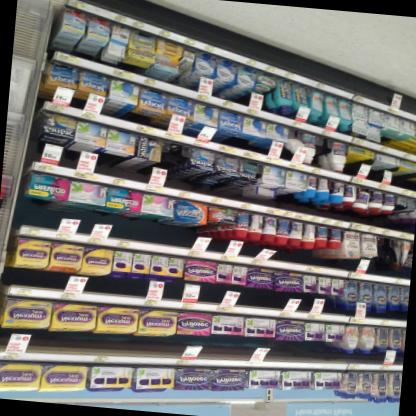empty_space: (155, 141, 194, 187), (376, 235, 406, 276)
